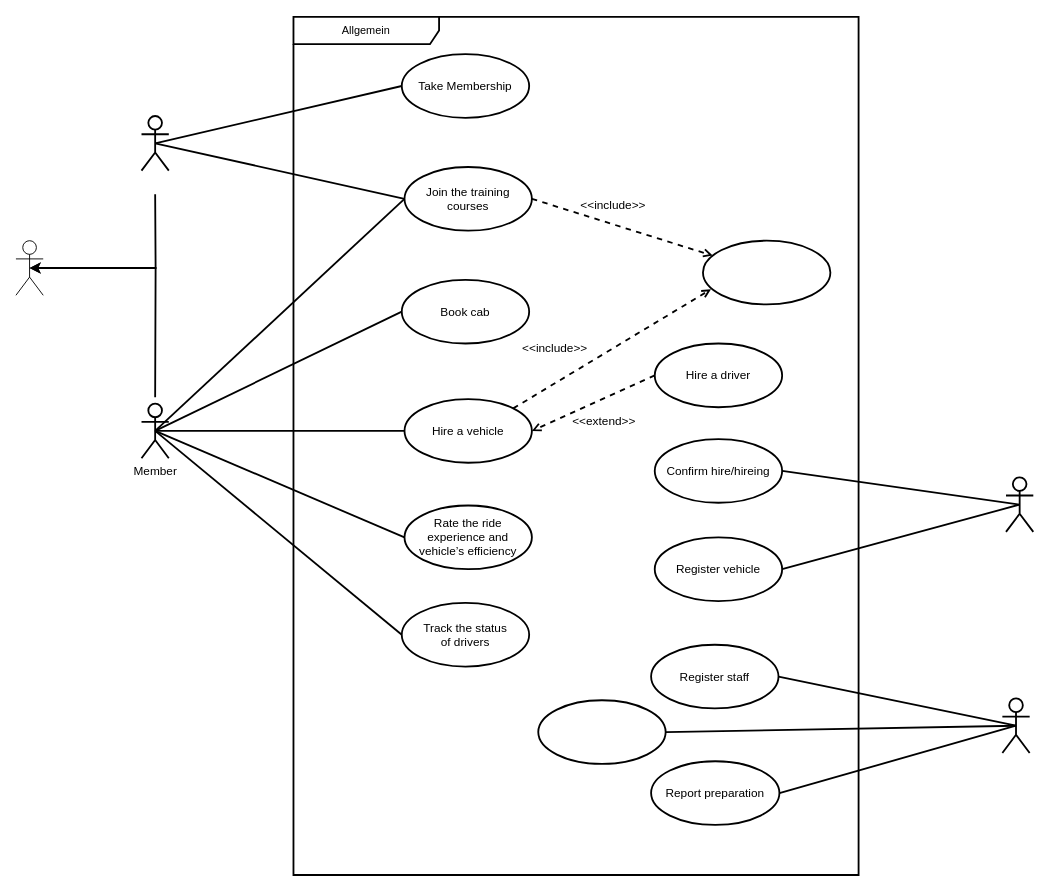
This 1051x891 diagram has some shape labels left out. The shapes that lost their labels are listed below. From the top down, each one's box as (x1, y1, x2, y2) in pixels, then its label:
(140, 115, 169, 171): Customer
(15, 240, 43, 295): User
(702, 239, 831, 305): Payment
(1005, 476, 1034, 532): Driver
(537, 699, 666, 764): Announcement
(1001, 697, 1030, 753): Admin
